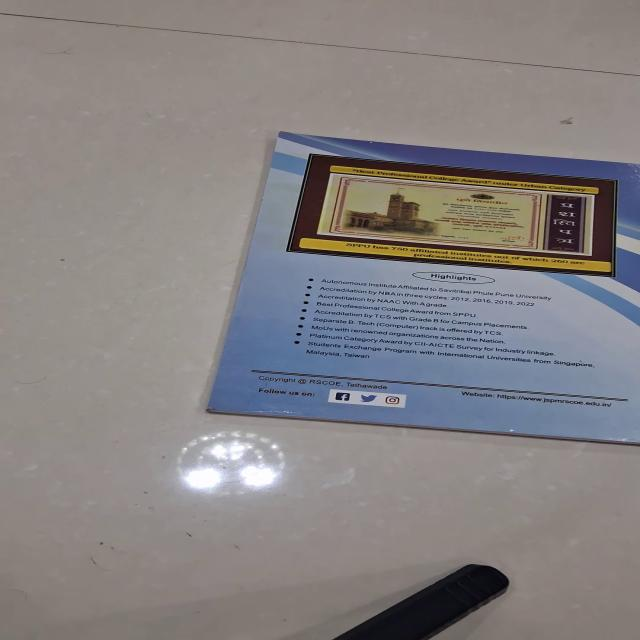paper: (204, 131, 639, 444)
